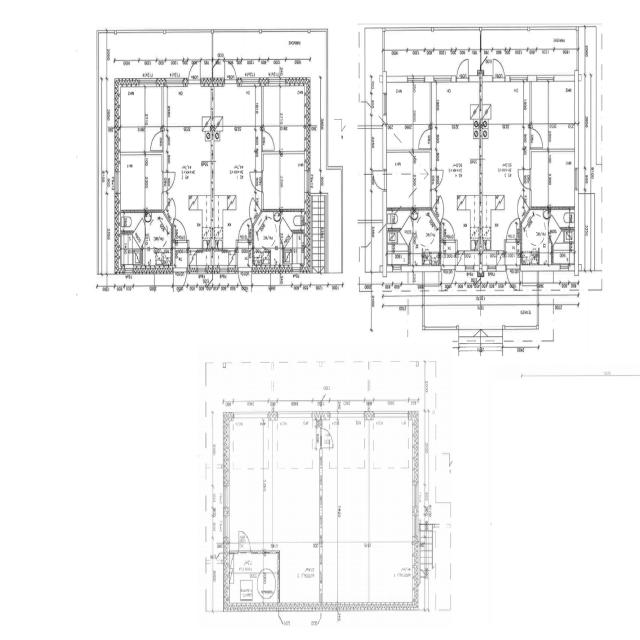door: (543, 216, 562, 246), (275, 217, 293, 247), (400, 216, 418, 246), (132, 219, 150, 248), (513, 195, 531, 223), (245, 197, 262, 225), (432, 195, 448, 224), (238, 266, 252, 296), (441, 265, 455, 294), (163, 200, 179, 225), (506, 266, 520, 294), (174, 265, 186, 295), (441, 217, 455, 242), (456, 56, 468, 82), (493, 56, 505, 82), (507, 218, 520, 242), (189, 58, 200, 85), (225, 58, 236, 85), (320, 428, 334, 448), (238, 531, 250, 554), (239, 220, 251, 242), (174, 220, 186, 242), (250, 172, 263, 192), (530, 128, 543, 148), (372, 171, 386, 189), (518, 170, 532, 188), (150, 131, 163, 150), (430, 170, 443, 189), (162, 172, 174, 191), (262, 132, 274, 150), (419, 130, 431, 148)
